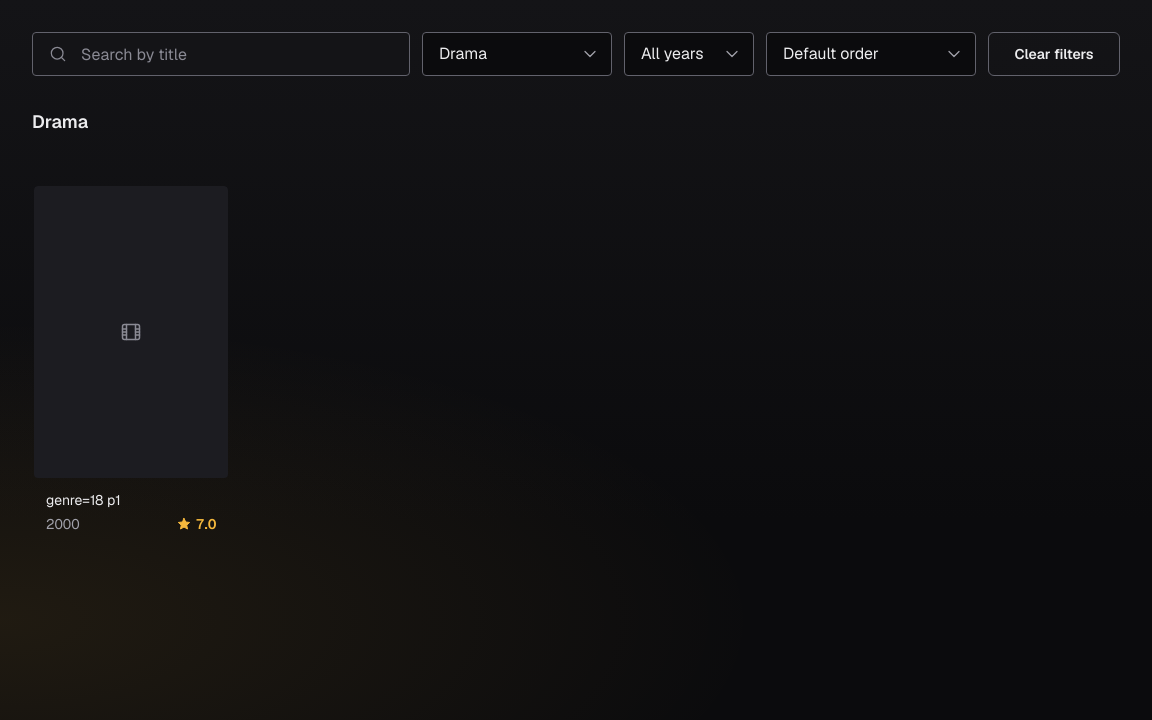
ExplorerClient — filters › unsetting the last filter returns to the popular list
Check: the heading "genre=18 p1" is shown, box [46,491,121,509]
Select "All genres" in the 1st dropdown named "Genre": (517, 54) [422,32,612,76]
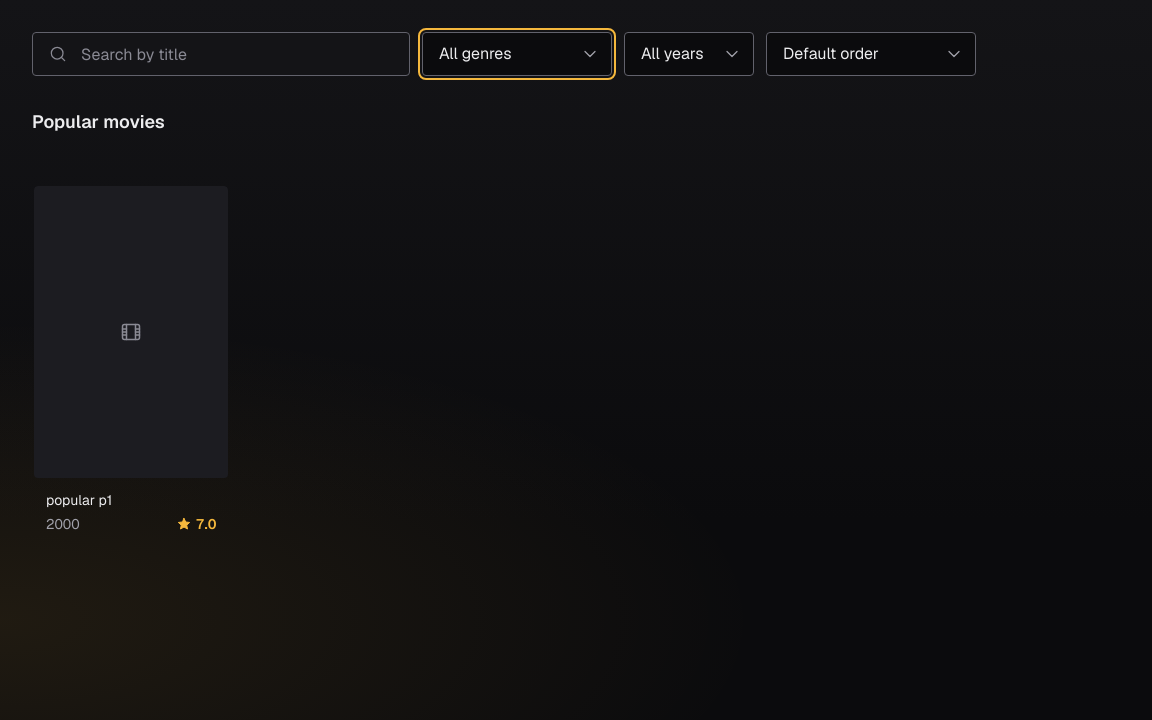
Check: the heading "popular p1" is shown, box [46,491,112,509]
